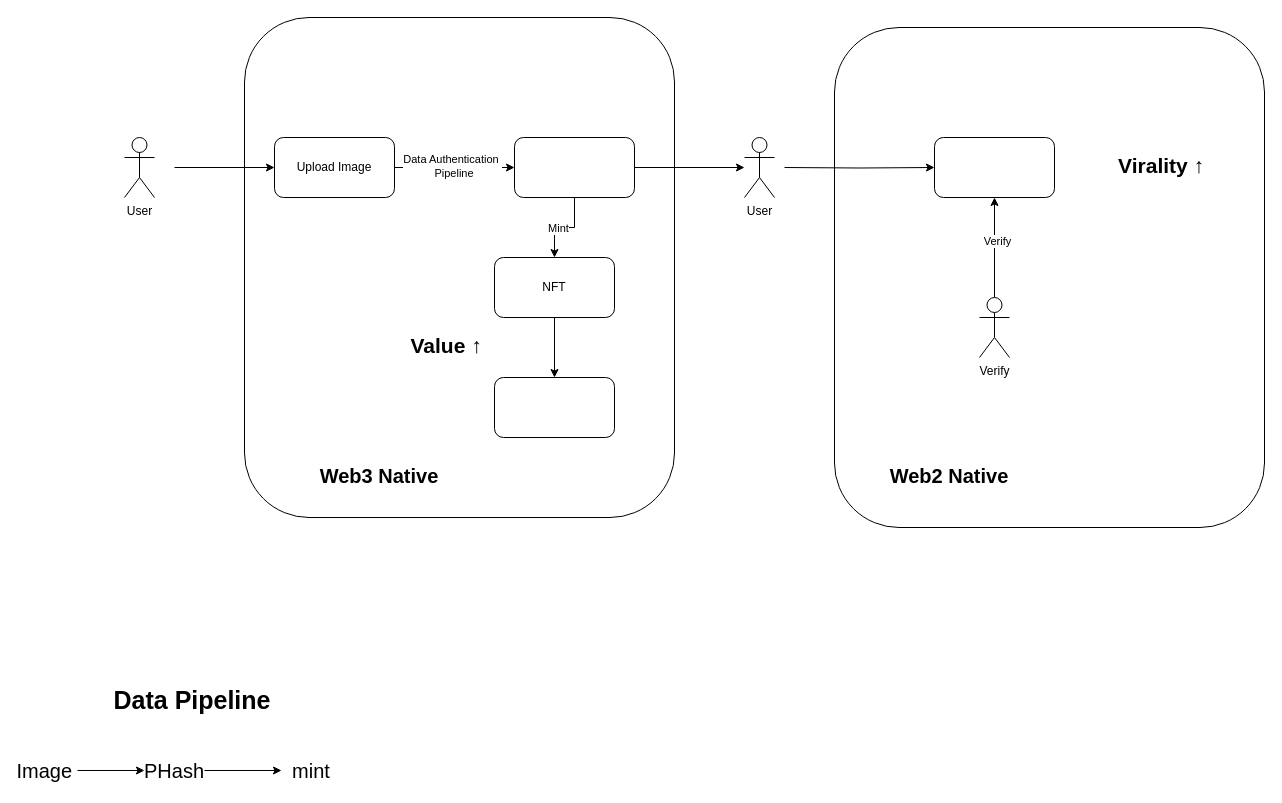
This 1282x803 diagram has some shape labels left out. Here are the shapes that lost their labels. From the top down, the box of each, then its label:
(514, 136, 634, 198): Watermarked Image
(934, 136, 1054, 198): Social Media
(494, 376, 614, 438): NFT Marketplace
